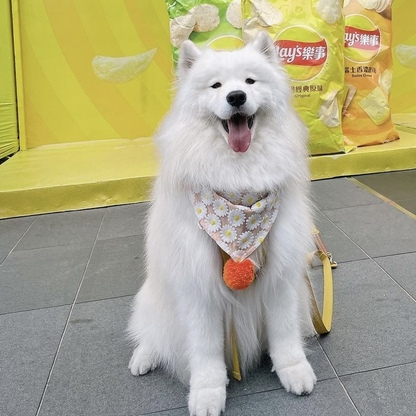samoyed: (119, 27, 327, 416)
